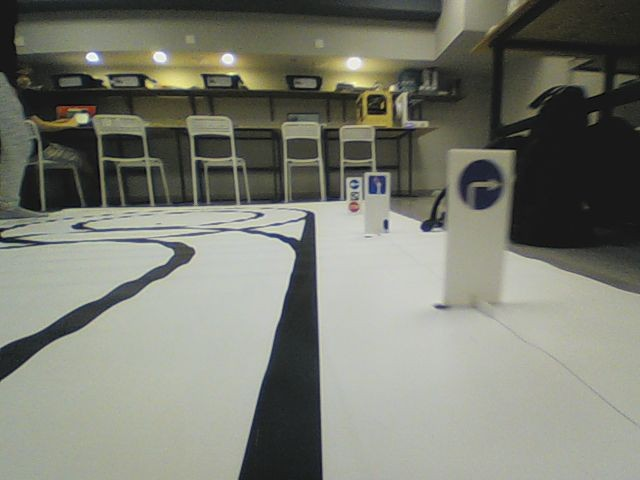Right: (456, 157, 504, 211)
priority_movement: (367, 174, 387, 196)
